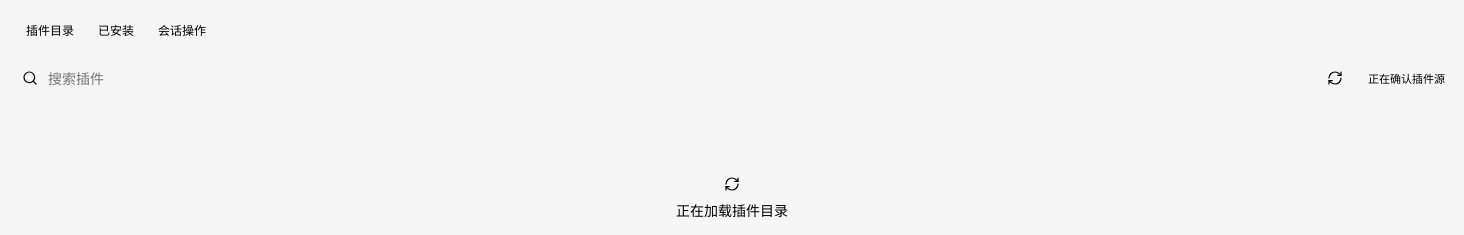
Scenario: PluginManager › loads USB-installed Plugins from an independent tab
This screenshot has width=1464, height=235.
What coordinates should you click on to do the following:
click the tab "已安装"
I would click on:
 (116, 30)
Its box is [87,15,145,45].
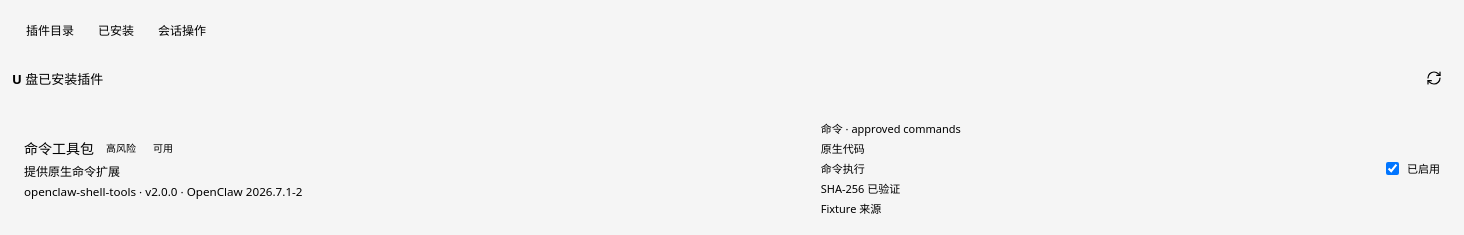
Now the text "命令工具包" is shown, box [24,138,94,158]
